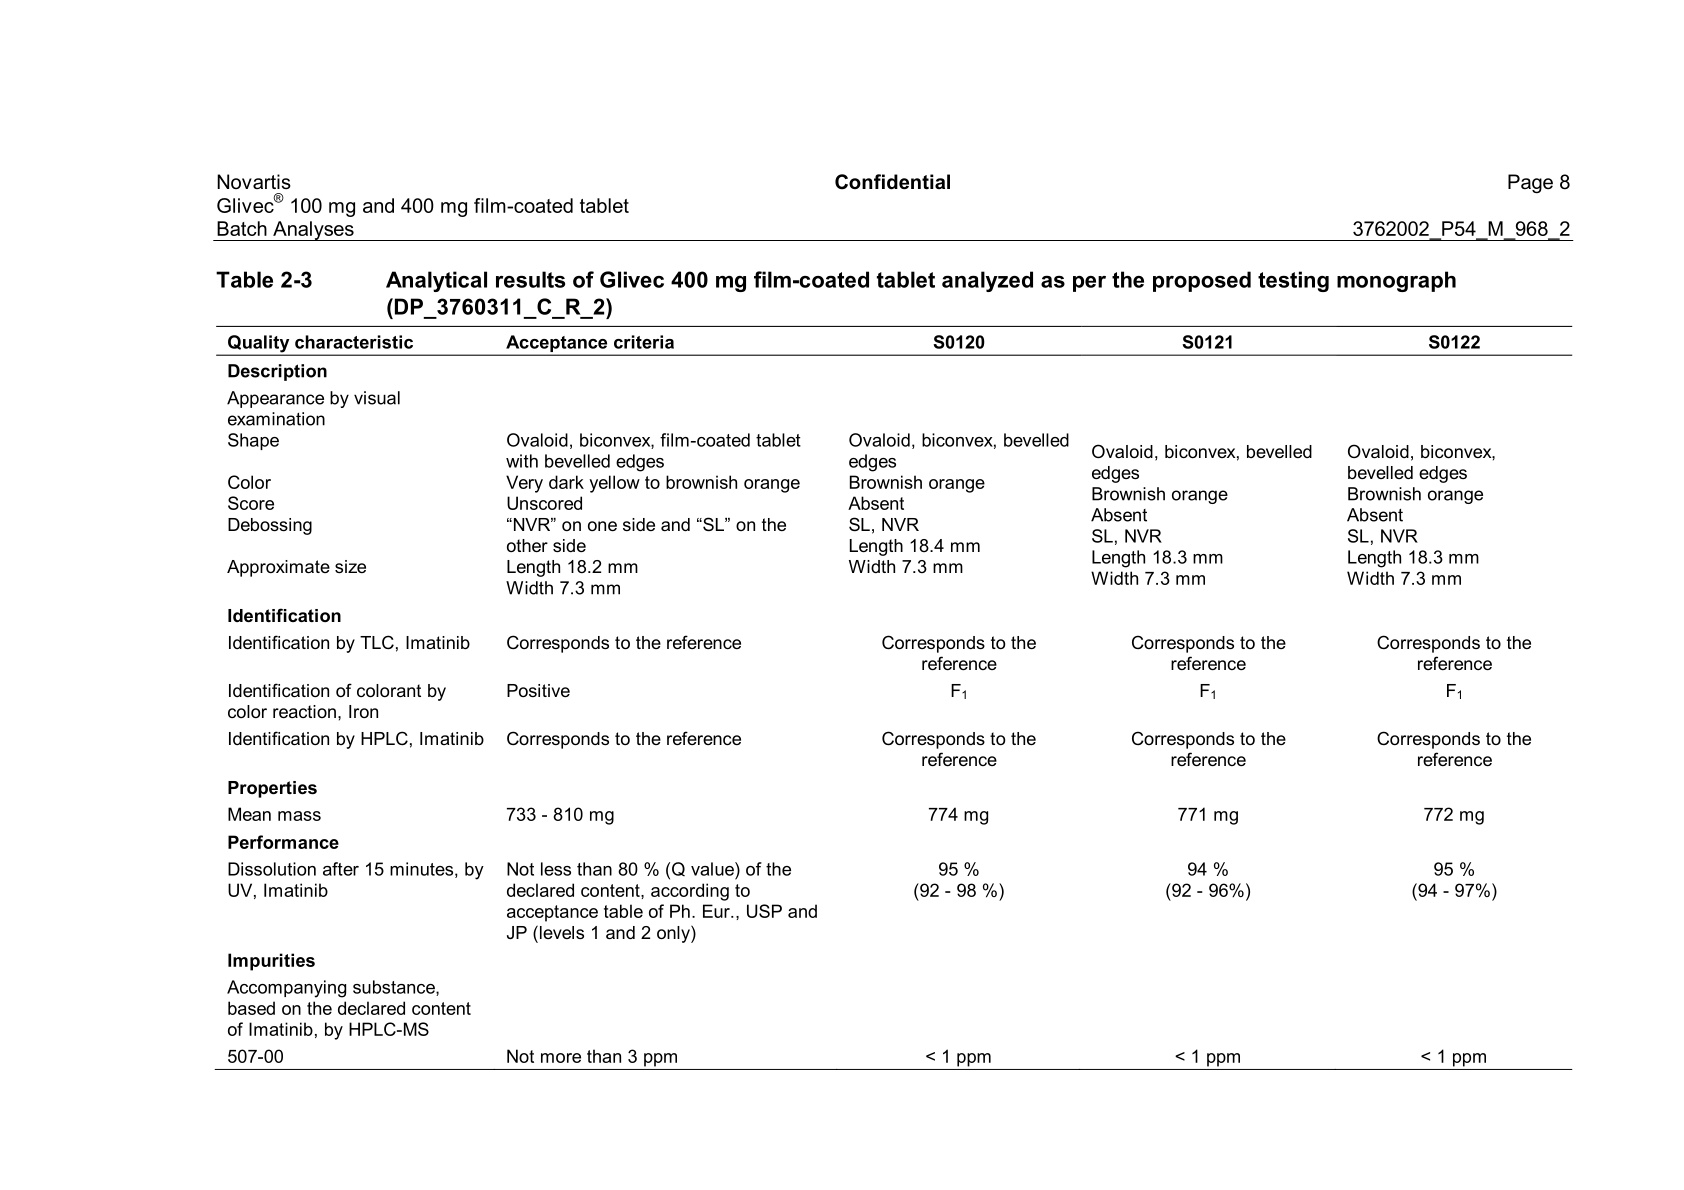partial_lined: (212, 323, 1575, 1073)
